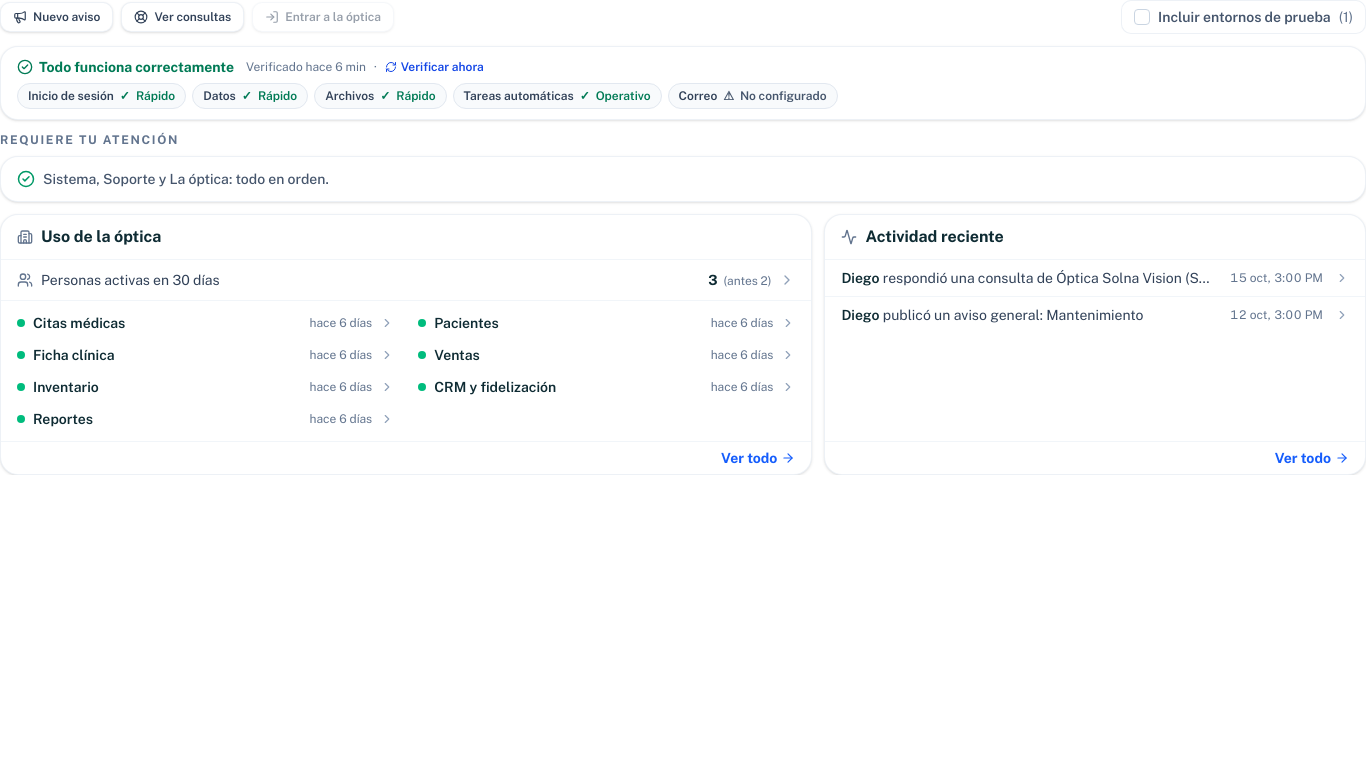
Inicio del superadmin: franja de estado › al pulsar un componente se abre su ventana con historial de 30 días, fallos y qué hacer
Click the button with aria-label "Correo: No configurado". click: (753, 96)
box: [668,83,838,109]
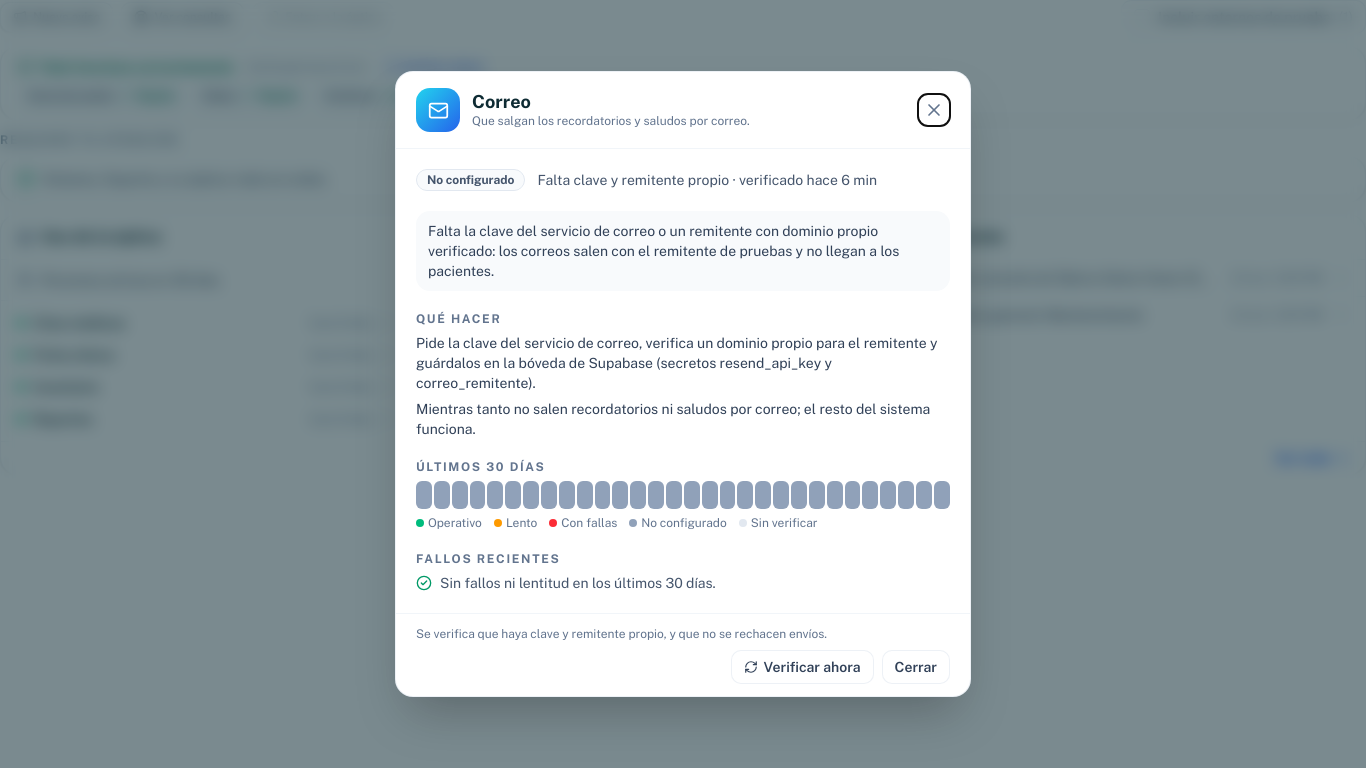
Expected: the heading "Qué hacer" is shown, [416,312,502,326]
Expected: the text "remitente con dominio propio" is shown, [428,223,899,279]
Expected: the heading "Últimos 30 días" is shown, [416,459,546,475]
